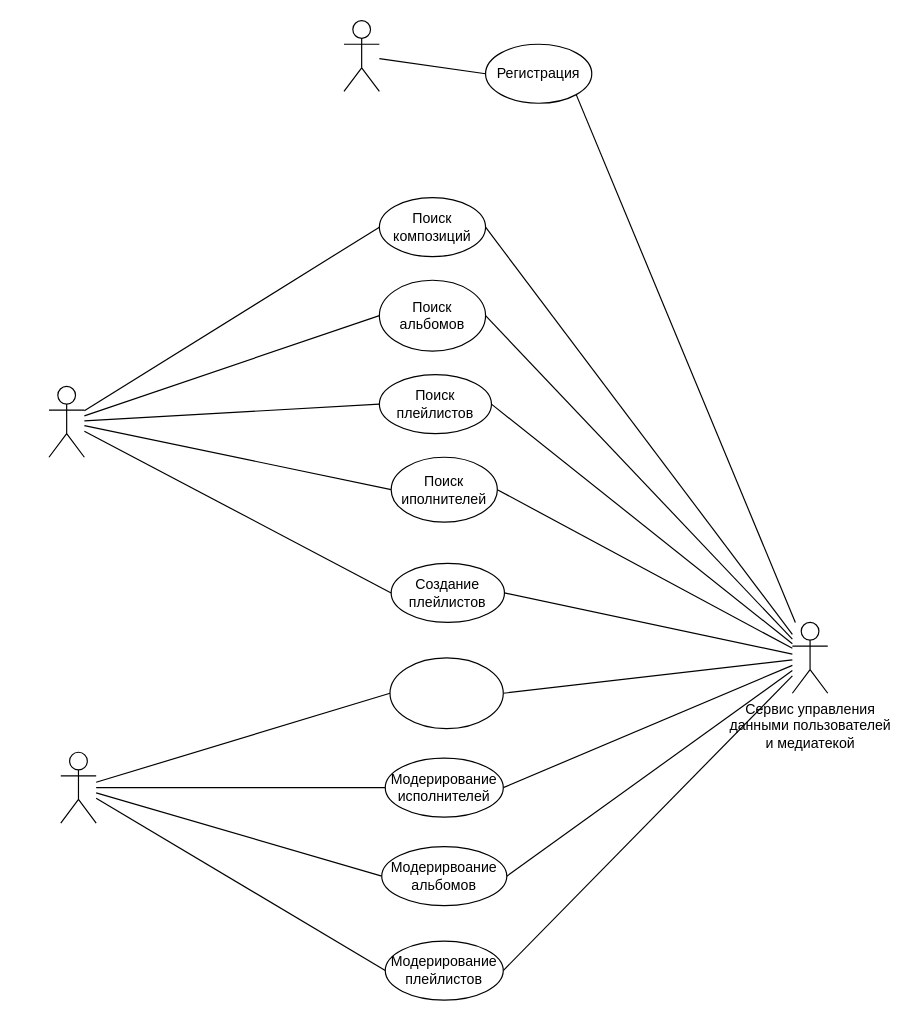
The diagram is 911 pixels wide and 1021 high, and some of its shapes have lost their labels. Here are the shapes that lost their labels. From the top down, the centre of each, then its label:
At pixel 361 55: "Посетитель".
At pixel 66 421: "Пользователь".
At pixel 446 693: "Модерирование композиций".
At pixel 78 787: "Администратор".
